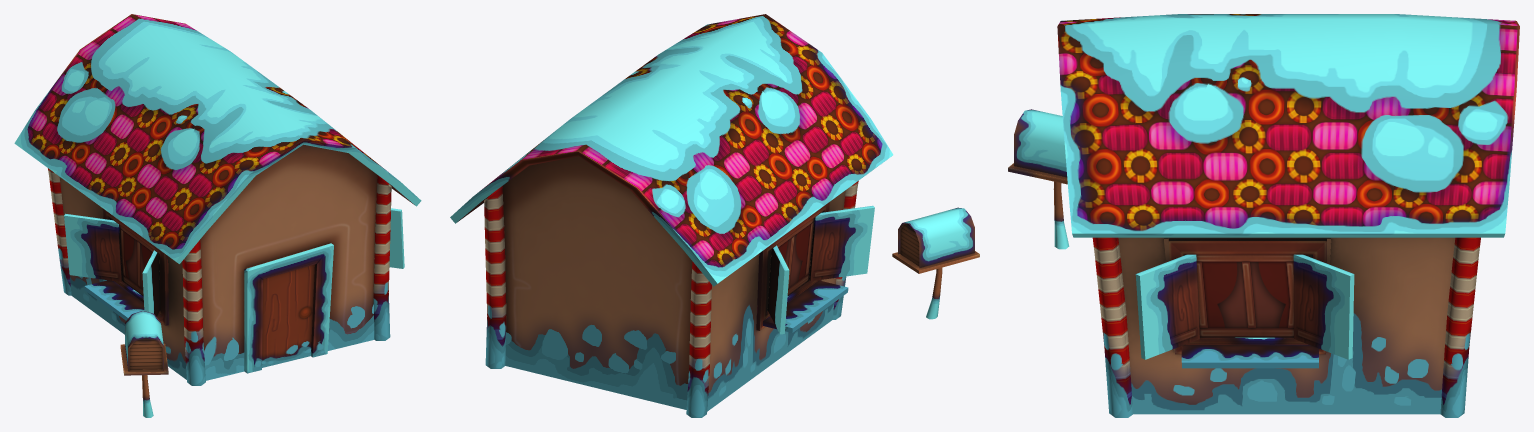
File: House4.FBX
The picture shows the model from 3 angles, left to right: view 1: azimuth 30°, elevation 25°; view 2: azimuth 150°, elevation 25°; view 3: azimuth 270°, elevation 25°; orthographic projection. The views are drawn at different scales.
Parts seen in each view (by area): view 1: House4; view 2: House4; view 3: House4.
Part boxes in pixels (left/top/right/bottom): House4: left=14, top=14, right=421, bottom=417; House4: left=450, top=14, right=979, bottom=417; House4: left=1008, top=14, right=1519, bottom=417.
Bounding box in the file's own units: 208 × 151 × 214.
Materials: 1 (1 with a texture image).
